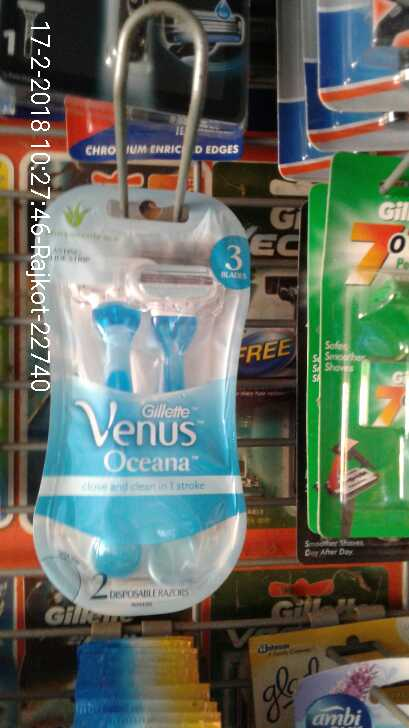venus: (39, 191, 240, 606)
